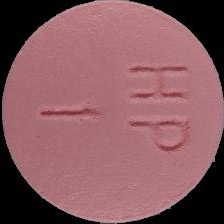54868-5788: (0, 0, 224, 224)
